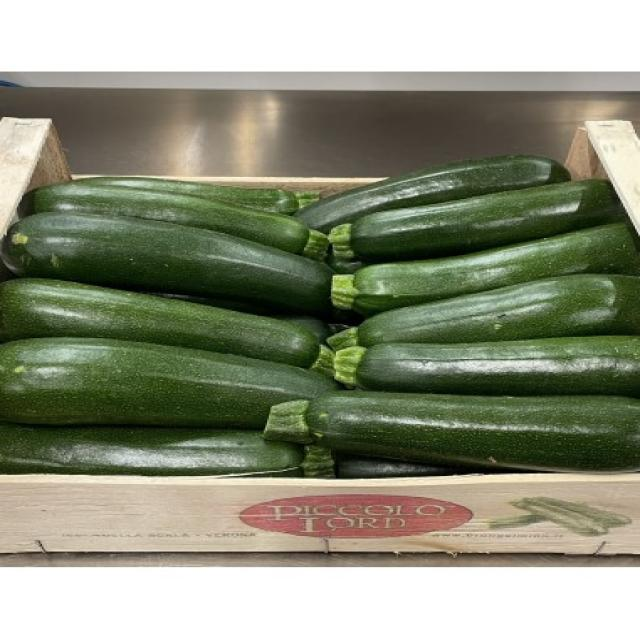Zucchini: (255, 391, 640, 462)
